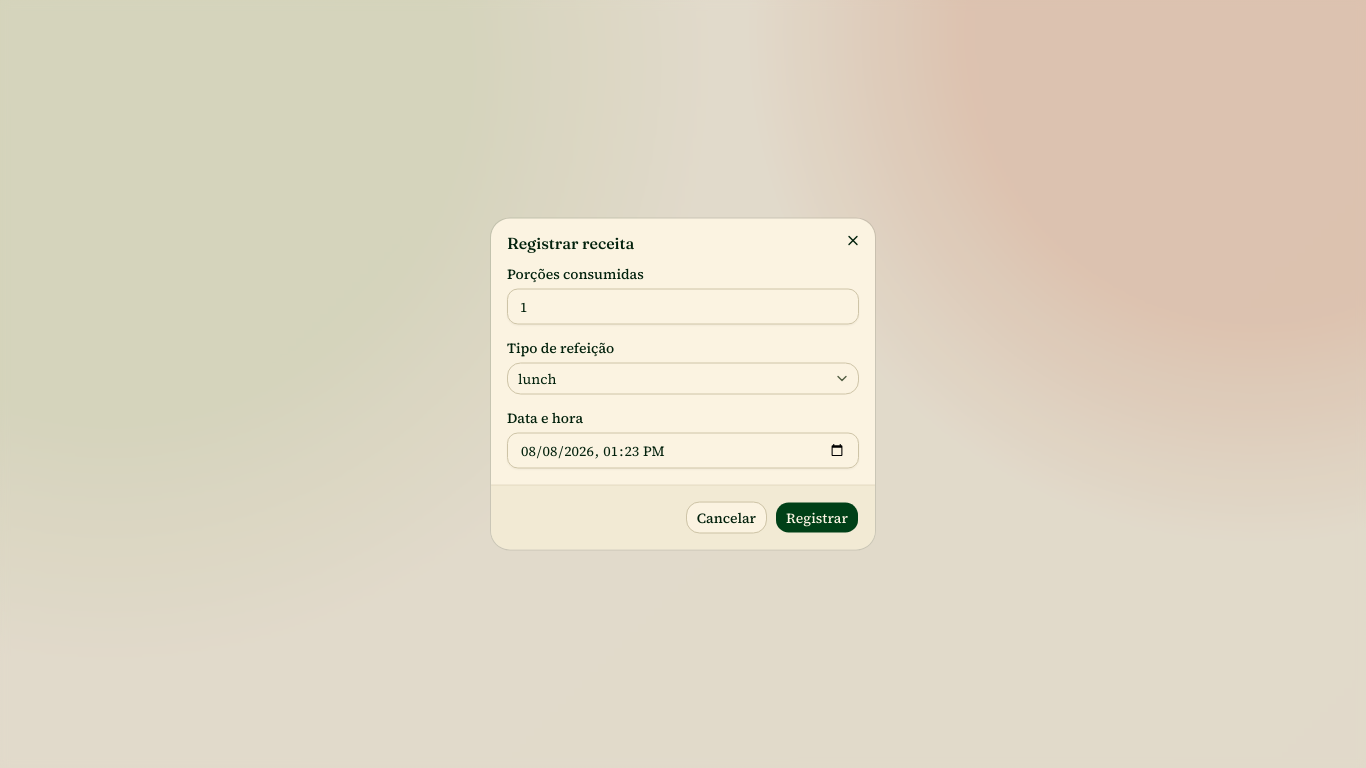
LogRecipeModal › shows a sanitized error when the request fails
Click the button "Registrar": (817, 518) [775,502,859,534]
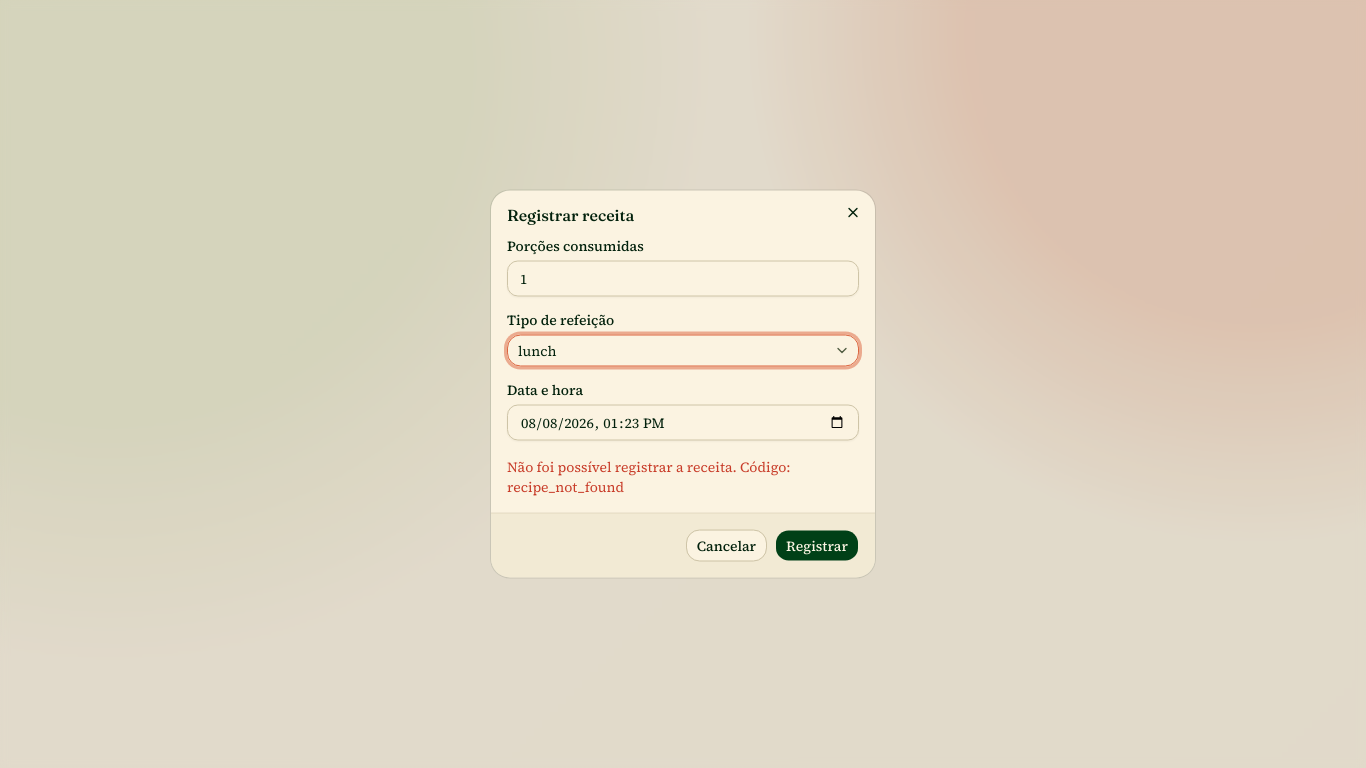
Result: the text "Não foi possível registrar a receita. Código: recipe_not_found" is shown at [507,456,791,496]
